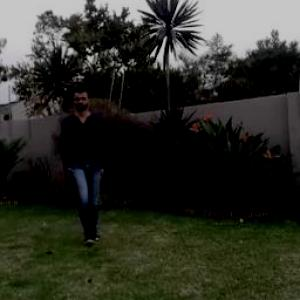follow: (65, 84, 110, 238)
